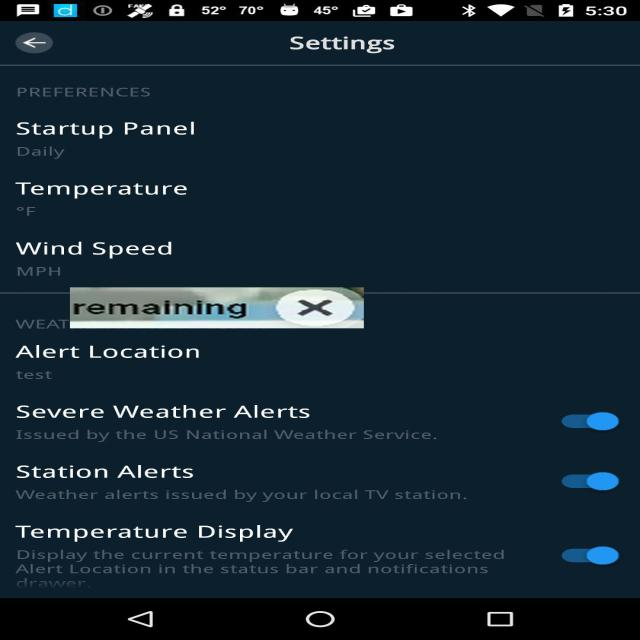misdirection: (70, 288, 364, 328)
